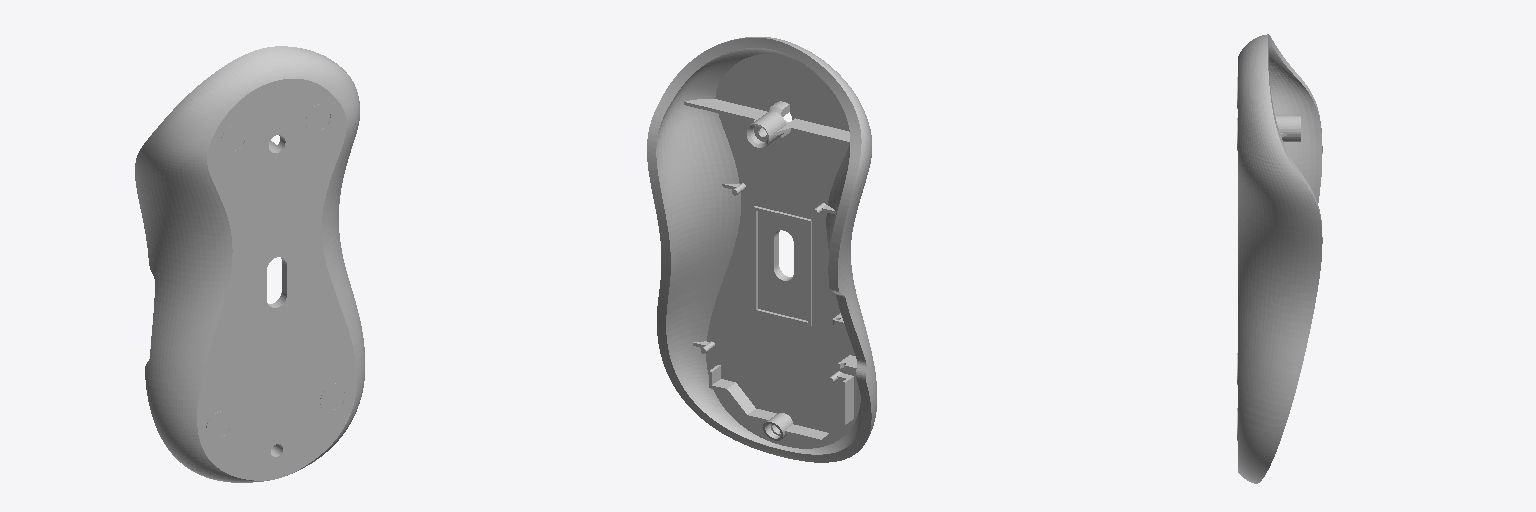
The model's file is mouse_(2).obj.
The picture shows the model from 3 angles: view 1: azimuth 30°, elevation 25°; view 2: azimuth 150°, elevation 25°; view 3: azimuth 270°, elevation 25°; orthographic projection.
Visible parts, largest first — view 1: Base; view 2: Base; view 3: Base.
Part boxes in pixels (x1,y1,x2,y2): Base: (135,46,364,482); Base: (647,37,876,462); Base: (1237,34,1322,483).
Bounding box in the file's own units: 6.8 × 13.04 × 2.37.